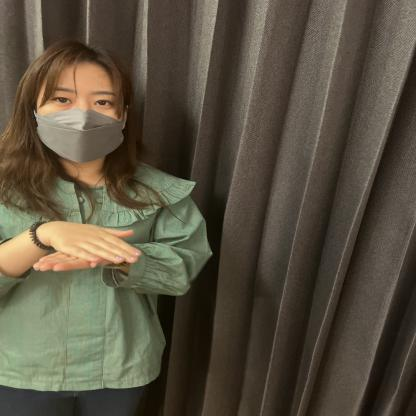Love: (0, 207, 279, 334)
